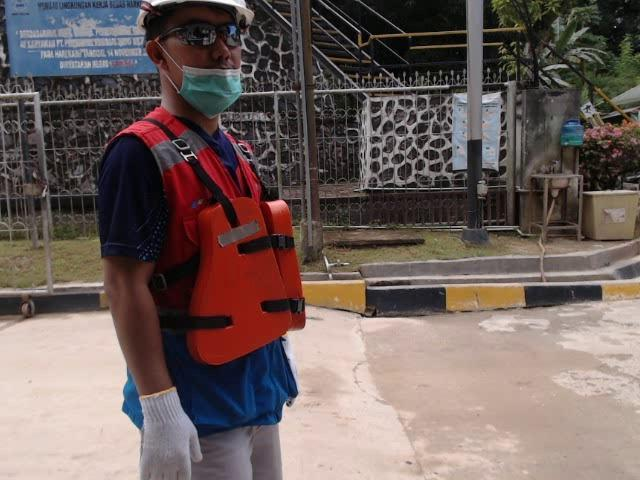vest: (187, 188, 312, 366)
